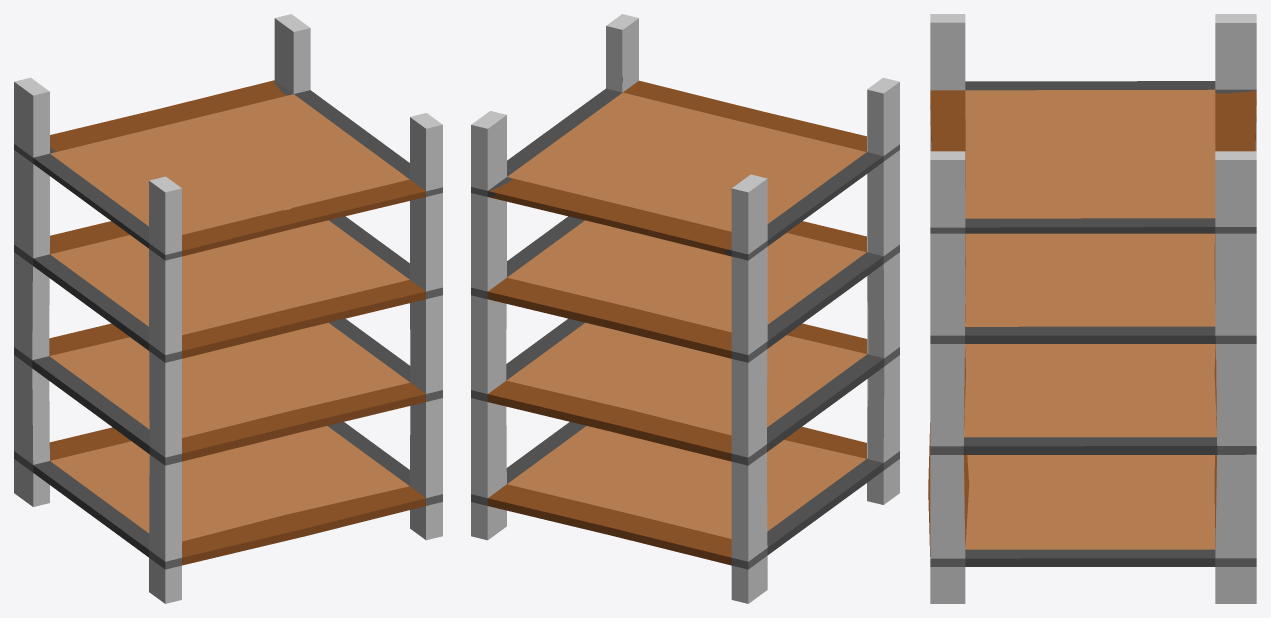
File: repis4.fbx
The picture shows the model from 3 angles, left to right: view 1: azimuth 30°, elevation 25°; view 2: azimuth 150°, elevation 25°; view 3: azimuth 270°, elevation 25°; orthographic projection. The views are drawn at different scales.
Parts seen in each view (by area): view 1: Cubo; view 2: Cubo; view 3: Cubo.
Boxes of the visible parts, x1,y1,x2,y2 form: Cubo: (14,14,442,603); Cubo: (471,14,899,603); Cubo: (928,14,1256,603).
Size of the model in its own units: 851 by 1205 by 808.
1 material, 1 textured.
